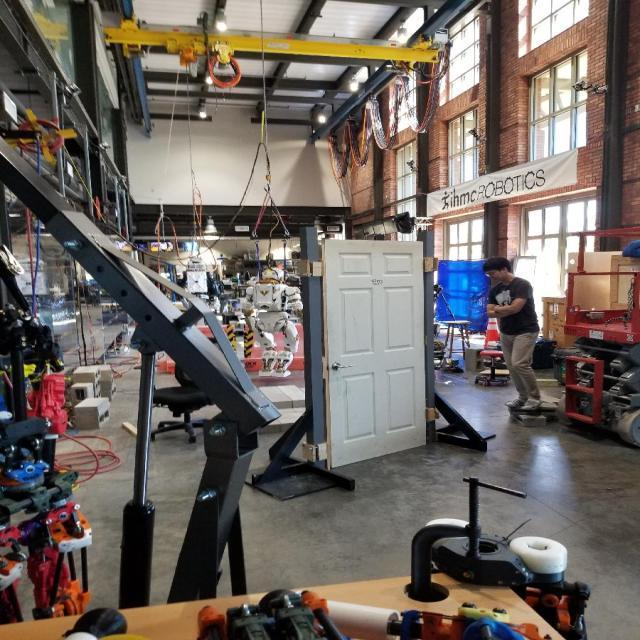door: (320, 238, 428, 470), (327, 360, 356, 374)
